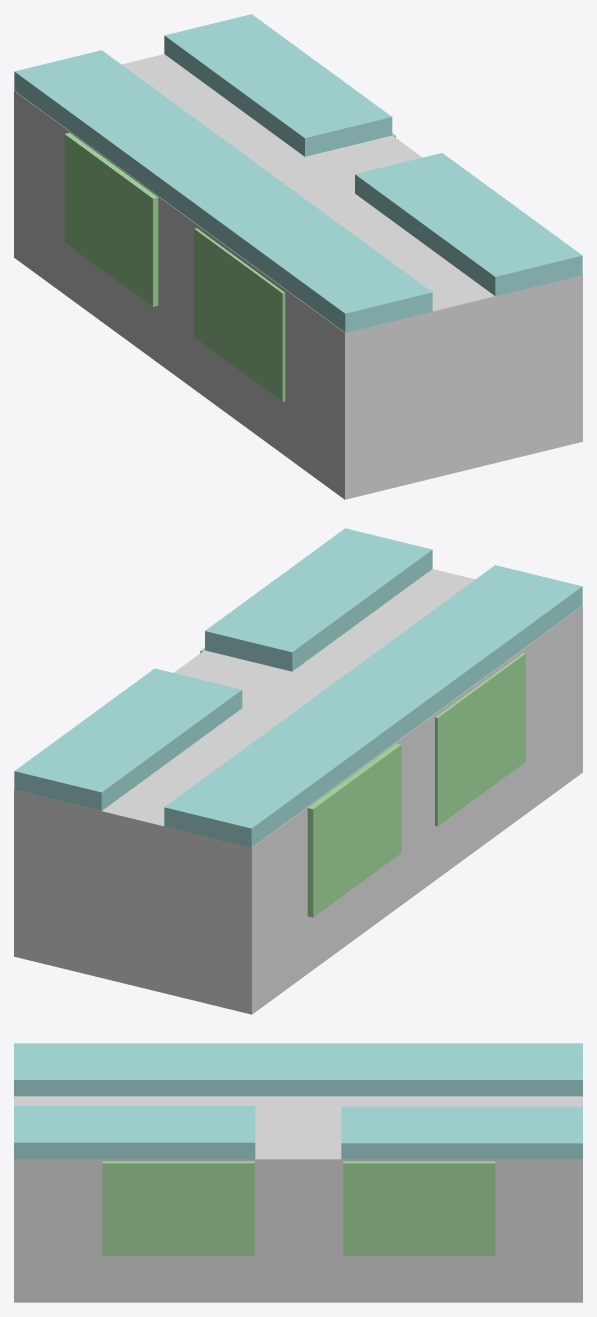
The model's file is doping.gltf.
3 views of the same model, one above another, from view 1: azimuth 30°, elevation 25°; view 2: azimuth 150°, elevation 25°; view 3: azimuth 270°, elevation 25° (orthographic). The views are drawn at different scales.
Parts seen in each view (by area): view 1: Cube, Cube.003, Cube.004, Cube.001, Cube.005, Cube.002; view 2: Cube, Cube.003, Cube.004, Cube.001, Cube.005, Cube.002; view 3: Cube, Cube.003, Cube.002, Cube.005, Cube.001, Cube.004.
Boxes of the visible parts, x1,y1,x2,y2 form: Cube: (14, 54, 582, 499); Cube.003: (14, 50, 432, 332); Cube.004: (355, 153, 582, 296); Cube.001: (164, 14, 392, 156); Cube.005: (64, 132, 395, 306); Cube.002: (194, 228, 285, 401); Cube: (14, 569, 582, 1014); Cube.003: (164, 565, 582, 847); Cube.004: (205, 528, 432, 671); Cube.001: (14, 668, 242, 810); Cube.005: (307, 743, 401, 917); Cube.002: (200, 648, 525, 826); Cube: (14, 1096, 582, 1302); Cube.003: (14, 1043, 582, 1096); Cube.002: (102, 1161, 254, 1256); Cube.005: (343, 1161, 495, 1256); Cube.001: (341, 1106, 582, 1159); Cube.004: (14, 1106, 255, 1159).
Bounding box in the file's own units: 2.08 × 1.49 × 4.82.
